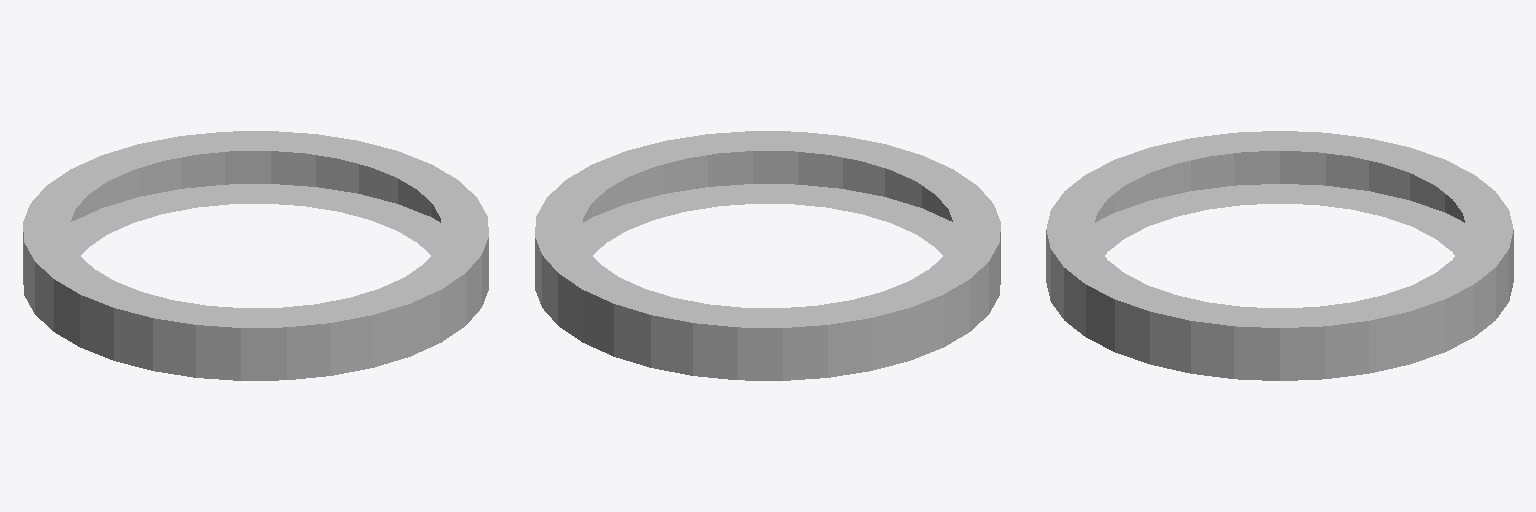
File: switcho.obj
3 renders of one model, left to right at view 1: azimuth 30°, elevation 25°; view 2: azimuth 150°, elevation 25°; view 3: azimuth 270°, elevation 25°, orthographic.
Parts seen in each view (by area): view 1: Cylinder_Cylinder.001; view 2: Cylinder_Cylinder.001; view 3: Cylinder_Cylinder.001.
Boxes of the visible parts, x1=… form: Cylinder_Cylinder.001: x1=23, y1=131, x2=488, y2=380; Cylinder_Cylinder.001: x1=535, y1=131, x2=1000, y2=380; Cylinder_Cylinder.001: x1=1046, y1=131, x2=1513, y2=380.
Size of the model in its own units: 1.6 by 0.2 by 1.6.